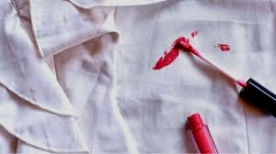lipstick: (150, 43, 183, 70), (173, 34, 192, 51), (217, 41, 231, 54), (193, 31, 201, 38)
